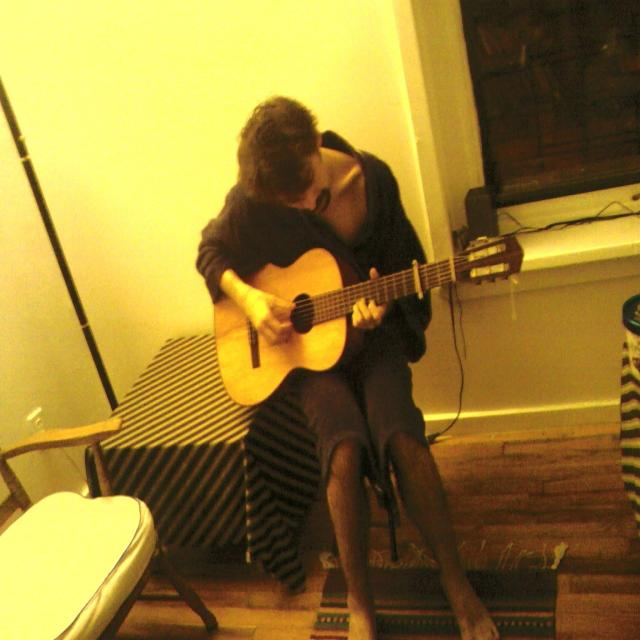guitar: (214, 233, 524, 405)
